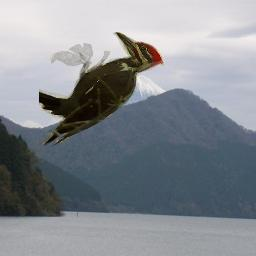Woodpecker: (39, 32, 164, 148)
